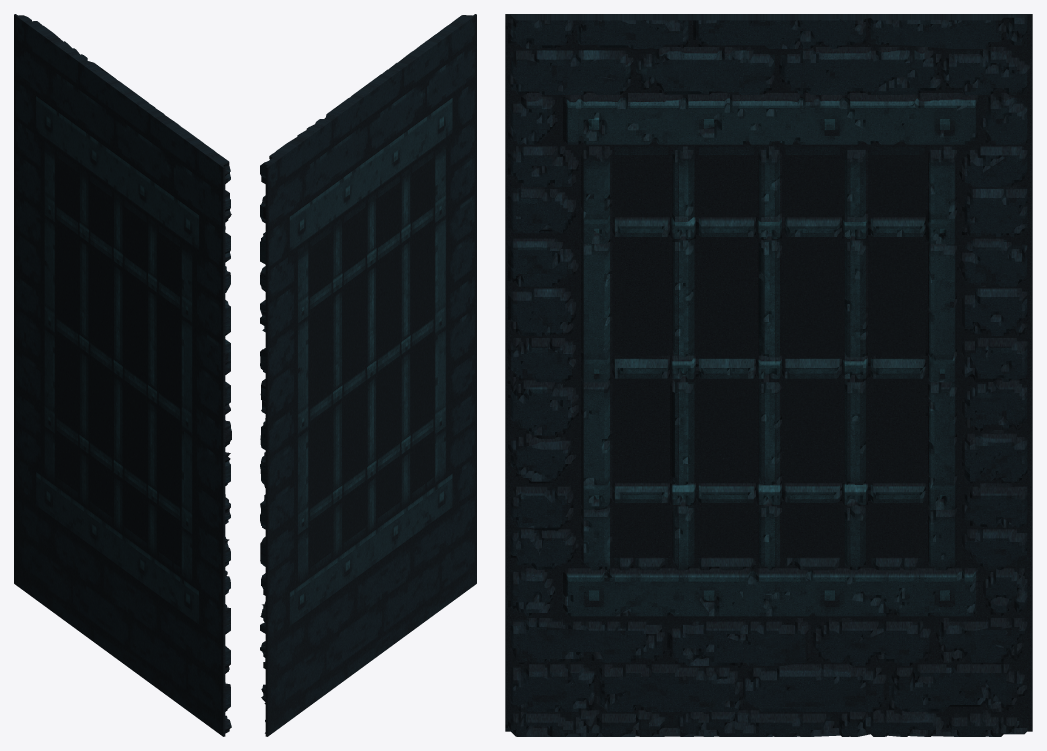
Rendered from IRon_bars9«+wall.fbx.
3 renders of one model, left to right at view 1: azimuth 30°, elevation 25°; view 2: azimuth 150°, elevation 25°; view 3: azimuth 270°, elevation 25°, orthographic. The views are drawn at different scales.
Visible parts, largest first — view 1: Plane.002; view 2: Plane.002; view 3: Plane.002.
Part boxes in pixels (<box>): Plane.002: <box>14,14,231,736</box>; Plane.002: <box>260,14,476,736</box>; Plane.002: <box>505,14,1032,736</box>.
Bounding box in the file's own units: 5.99 × 307 × 205.
1 material, 1 textured.
